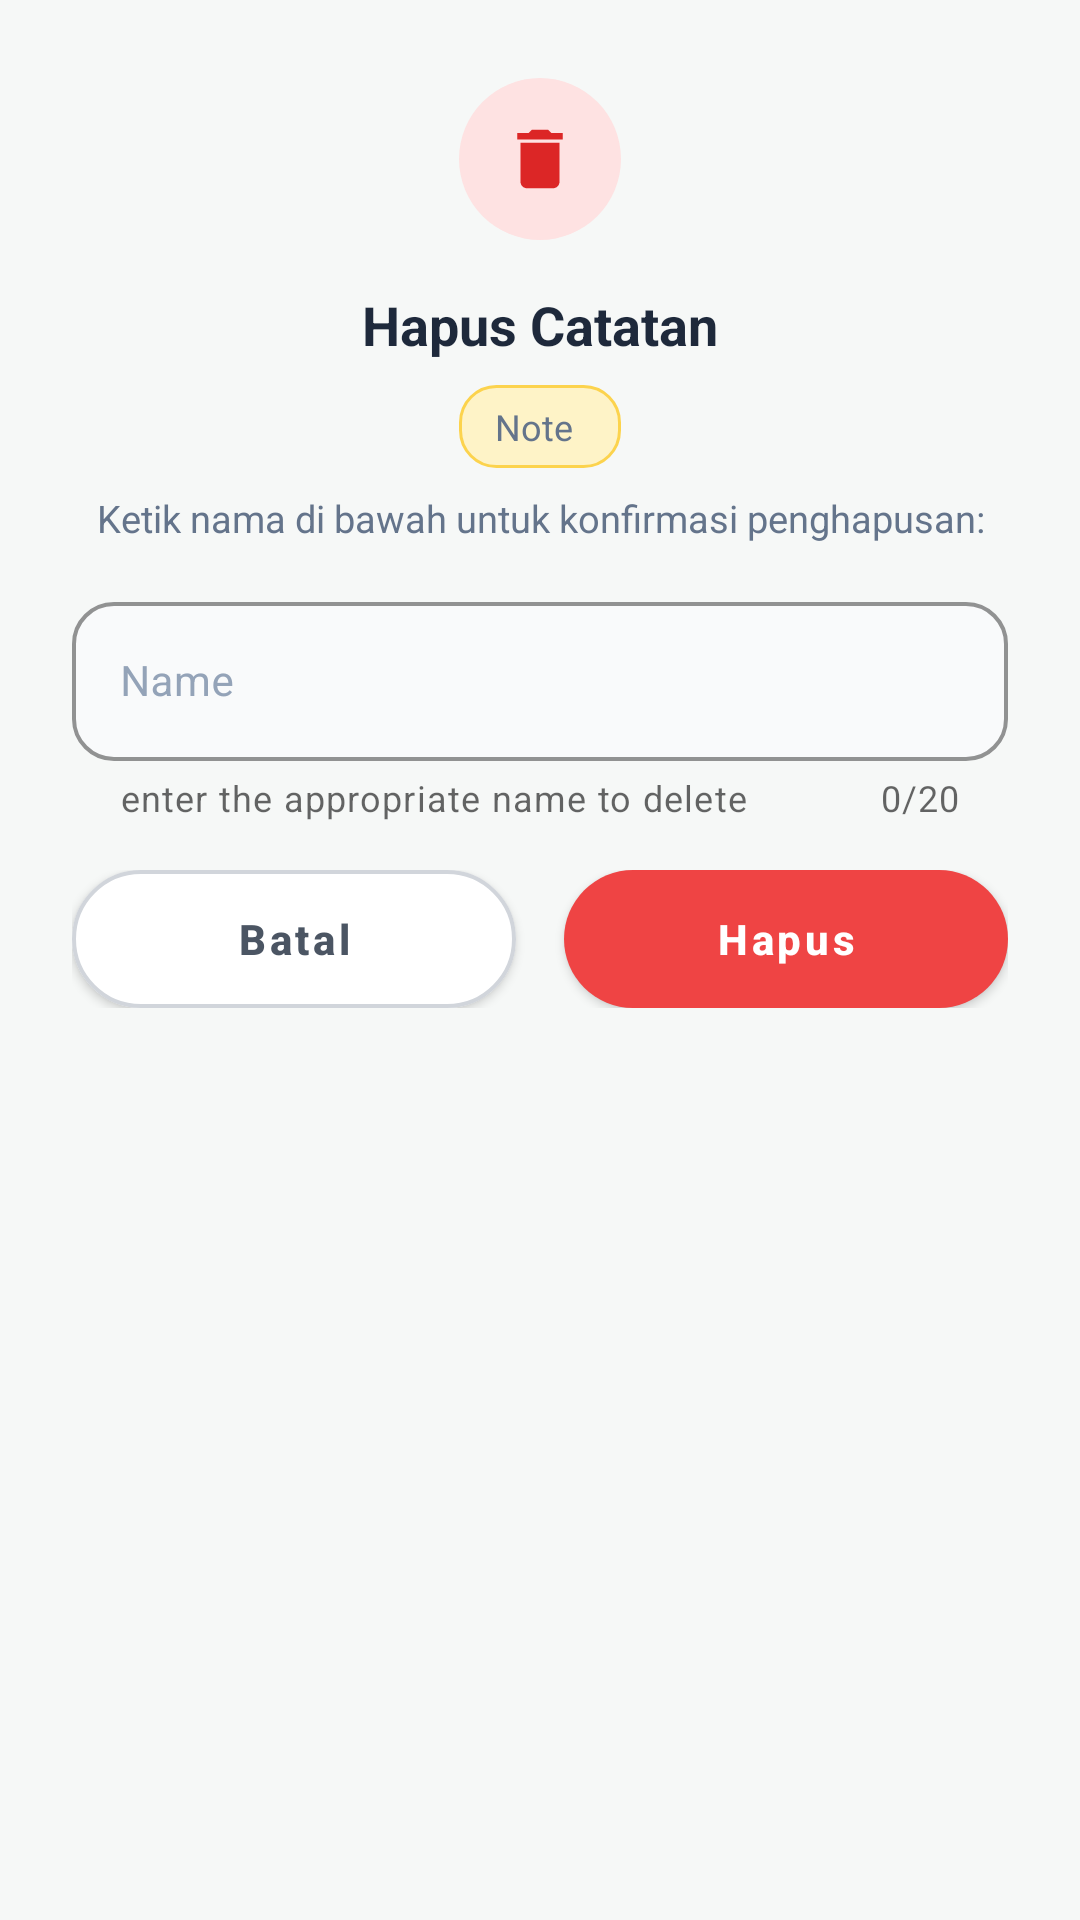

Point at icon controls on the screen. Image size 1080×1920, points as point (x, y).
delete: point (540, 159)
